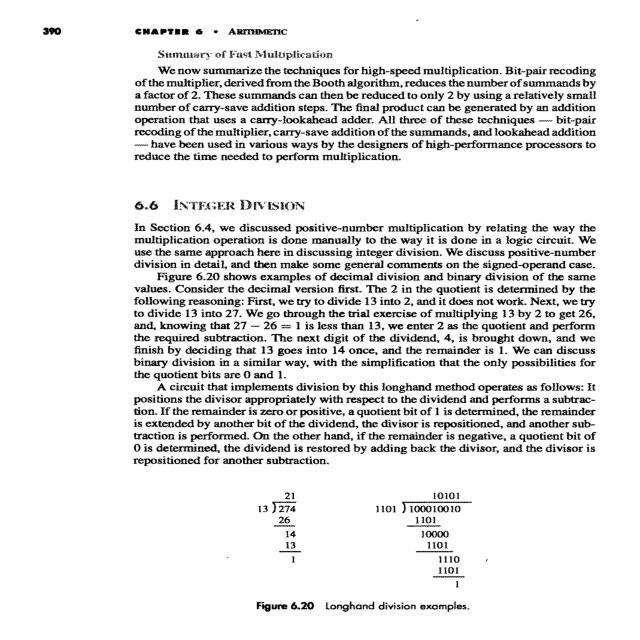diagram: (221, 485, 494, 640)
